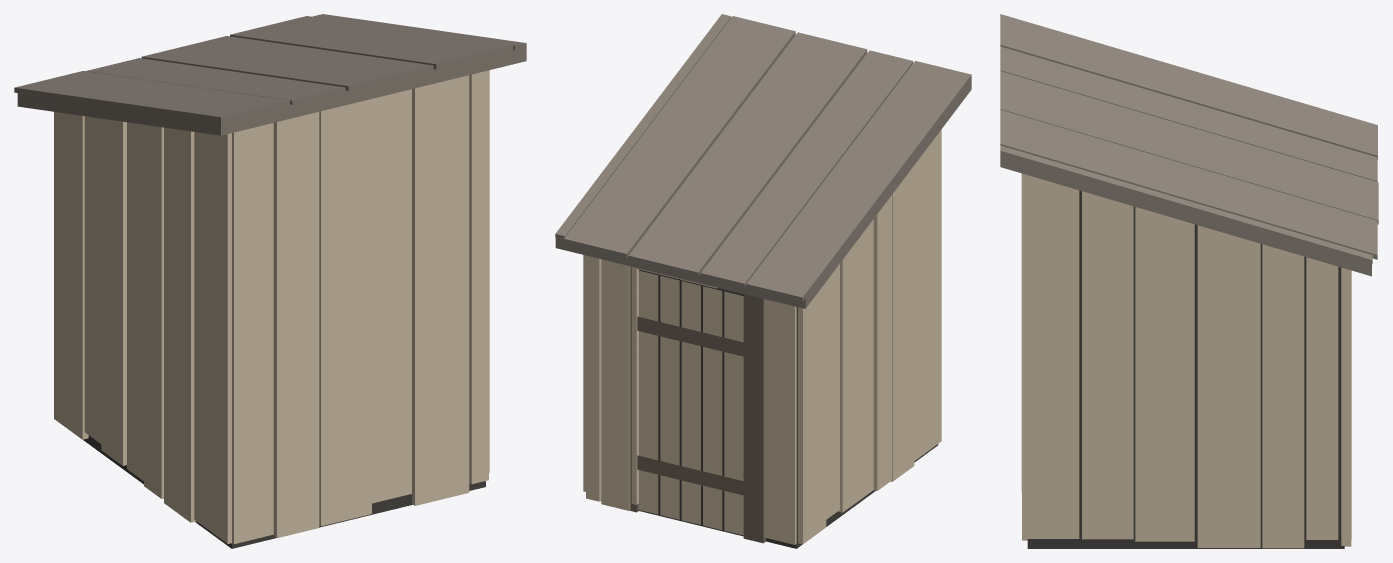
The model's file is recon_1835_south_a3_041__inferred_1835.glb.
3 views of the same model, side by side, from view 1: azimuth 30°, elevation 25°; view 2: azimuth 150°, elevation 25°; view 3: azimuth 270°, elevation 25° (orthographic). The views are drawn at different scales.
Parts seen in each view (by area): view 1: recon_1835_south_a3_041__inferred_1835; view 2: recon_1835_south_a3_041__inferred_1835; view 3: recon_1835_south_a3_041__inferred_1835.
Boxes of the visible parts, left/top/right/bottom form: recon_1835_south_a3_041__inferred_1835: left=14, top=14, right=526, bottom=548; recon_1835_south_a3_041__inferred_1835: left=555, top=14, right=971, bottom=548; recon_1835_south_a3_041__inferred_1835: left=1000, top=14, right=1378, bottom=548.
Bounding box in the file's own units: 2.01 × 2.83 × 2.36.
